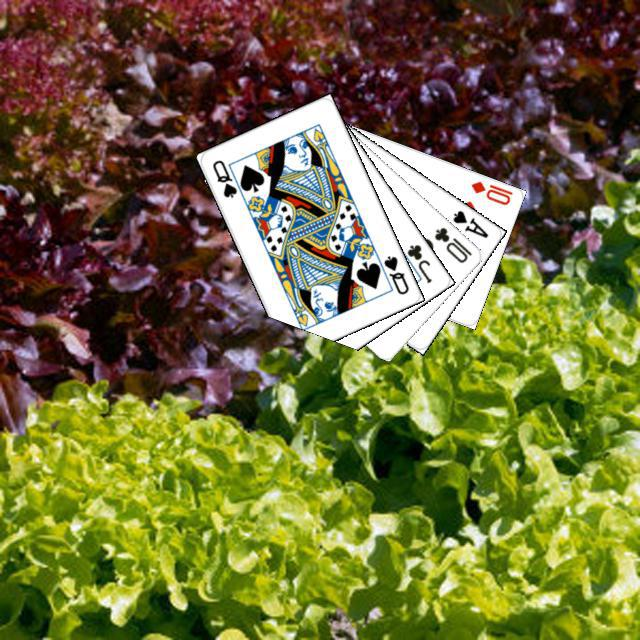10c: (430, 222, 474, 265)
10d: (466, 176, 514, 207)
As: (448, 205, 490, 240)
Jc: (402, 239, 434, 285)
Qs: (207, 155, 239, 200), (379, 251, 410, 296)
